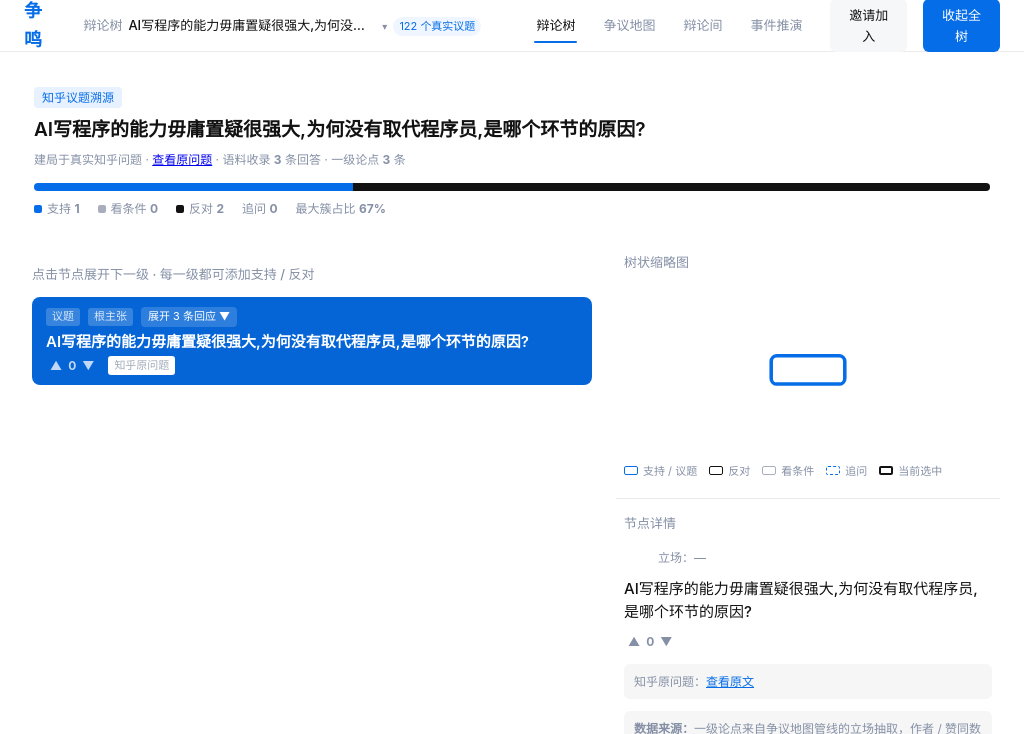
Test: 辩论树 · 议题库 › 顶栏议题名即入口：可搜、可换、换完写回 URL 与本地记忆
The width and height of the screenshot is (1024, 734).
Click the button "辩论树 AI写程序的能力毋庸置疑很强大,为何没有取代程序… ▾ 122 个真实议题".
click(282, 26)  # box [72,10,492,41]
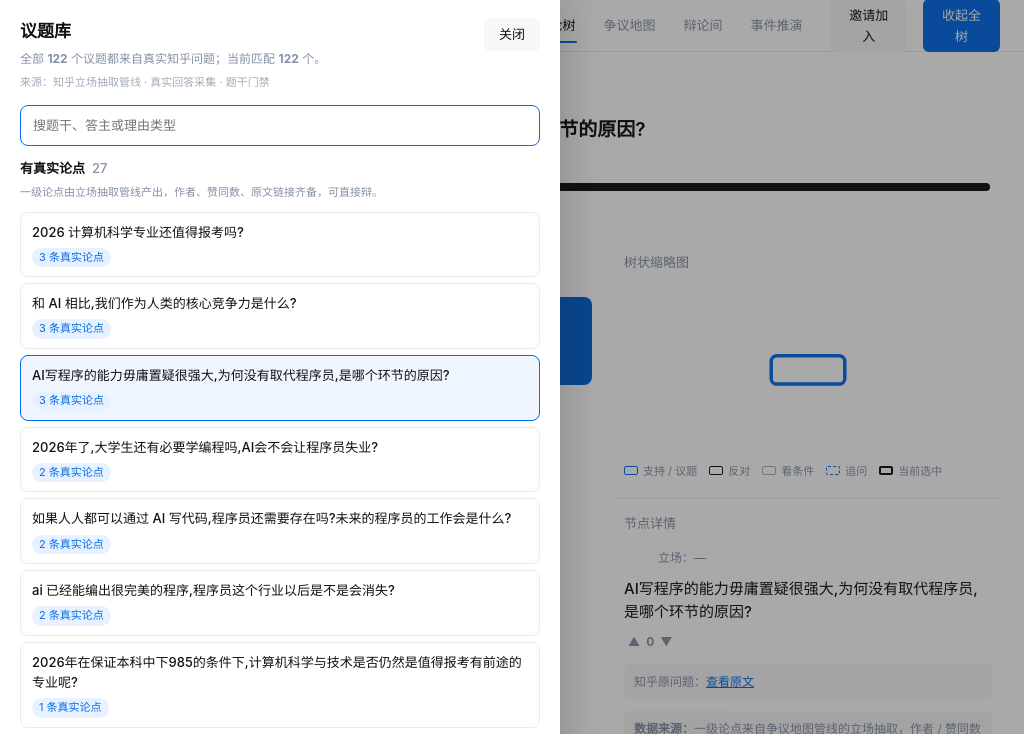
Type "县中" into the search field named "搜索议题".
click(280, 126); type("县中")  # box [20,105,540,146]
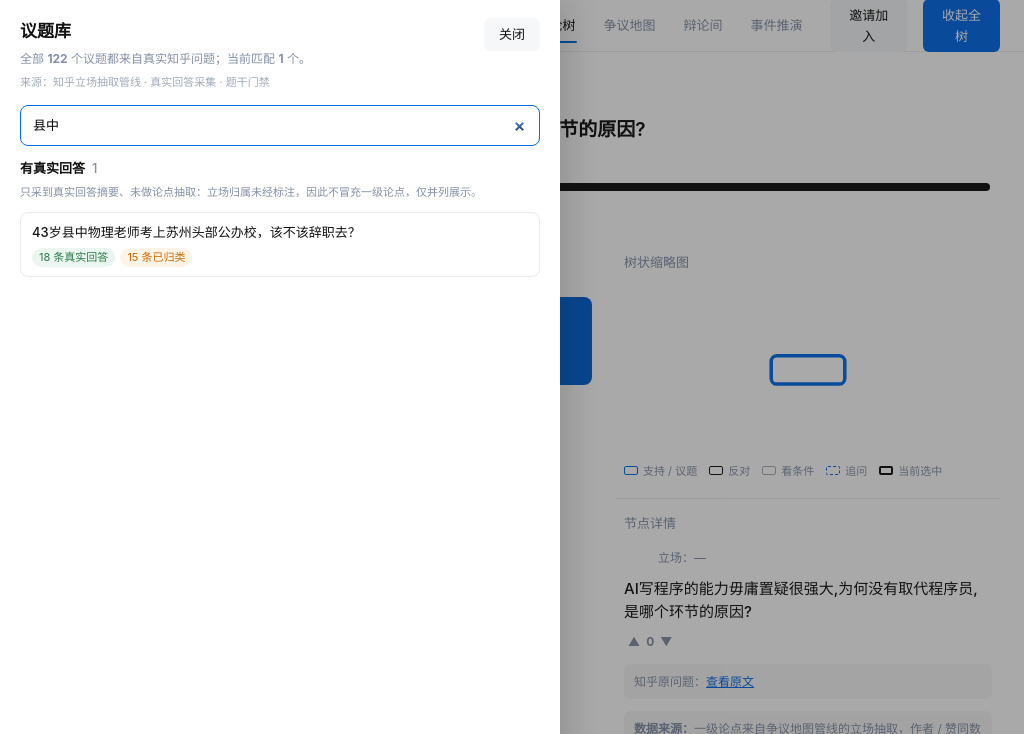
Click the button "43岁县中物理老师考上苏州头部公办校，该不该辞职去？ 18 条真实回答 15 条已归类".
click(196, 232)  # box [20,212,540,277]
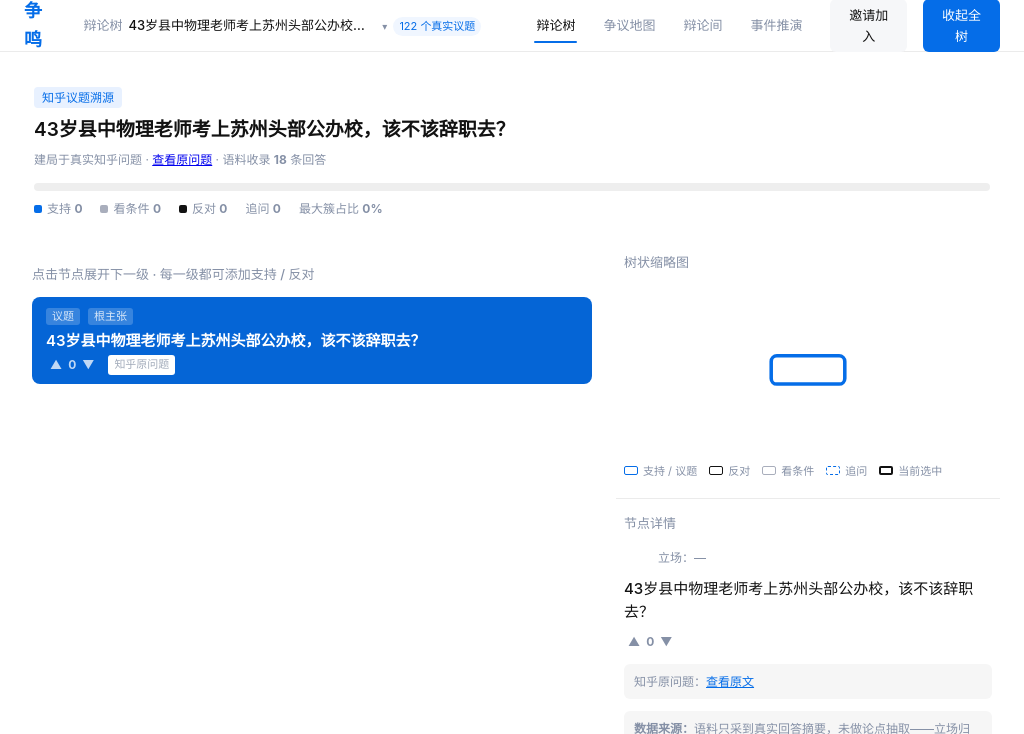
Now the heading "43岁县中物理老师考上苏州头部公办校，该不该辞职去？" below "知乎议题溯源" is shown, box [34,118,515,141]
Now the heading "议题库" is gone
